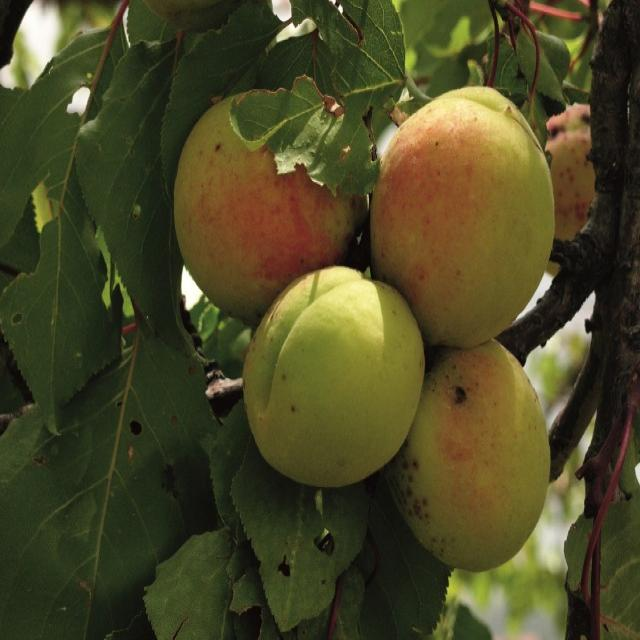kayisi: (370, 89, 553, 340), (175, 92, 355, 328), (241, 269, 426, 482), (393, 338, 551, 572)
yaprak: (78, 24, 200, 331)
